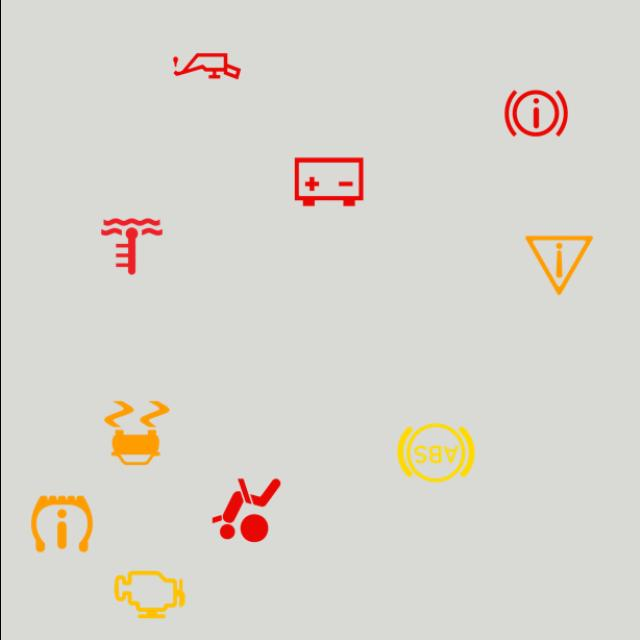Anti Lock Braking System: (393, 411, 477, 495)
Braking System Issue: (493, 71, 577, 155)
Charging System Issue: (286, 140, 370, 224)
Check Engine: (106, 552, 190, 636)
Electronic Stability Problem -ESP-: (94, 391, 178, 475)
Engine Overheating Warning Light: (89, 204, 173, 288)
Low Engine Oil Warning Light: (164, 24, 248, 108)
Low Tire Pressure Warning Light: (19, 482, 103, 566)
Master warning light: (516, 224, 600, 308)
SRS-Airbag: (204, 468, 288, 552)
